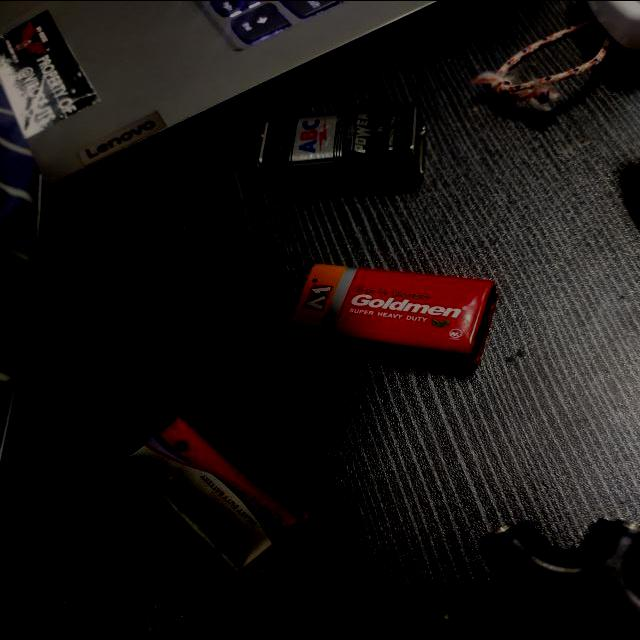9V: (100, 398, 336, 594), (270, 261, 504, 374), (236, 87, 443, 203)
